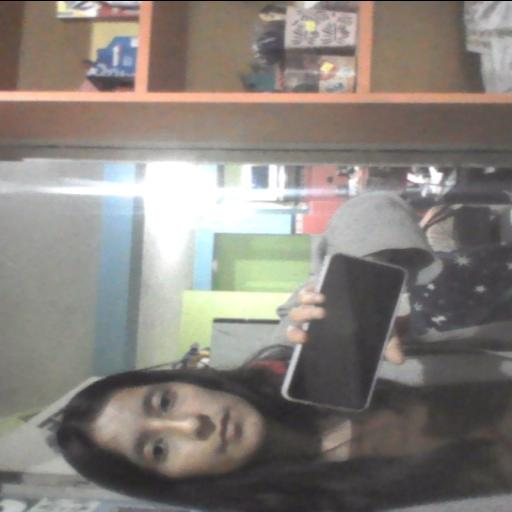phone: (284, 242, 409, 418)
